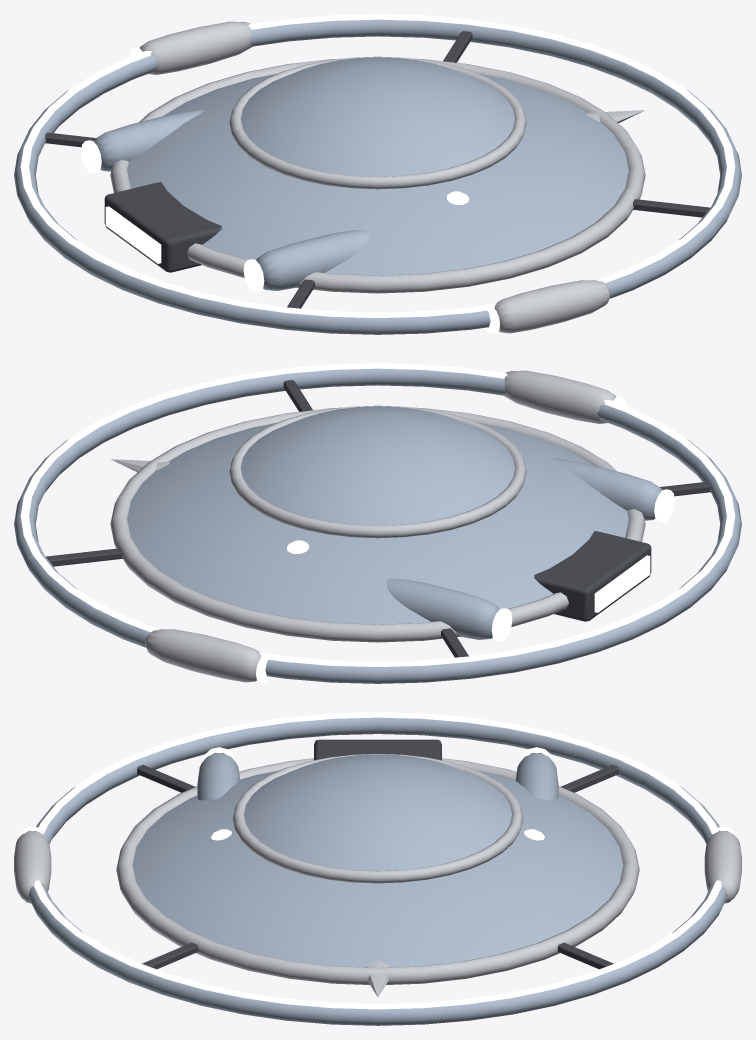
File: saucer_enormous.glb
3 views of the same model, one above another, from view 1: azimuth 30°, elevation 25°; view 2: azimuth 150°, elevation 25°; view 3: azimuth 270°, elevation 25° (orthographic). The views are drawn at different scales.
Parts seen in each view (by area): view 1: saucer_enormous; view 2: saucer_enormous; view 3: saucer_enormous.
Part boxes in pixels (x1,y1,x2,y2): saucer_enormous: [14, 14, 741, 334]; saucer_enormous: [14, 363, 741, 683]; saucer_enormous: [14, 712, 741, 1025].
Bounding box in the file's own units: 2.5 × 0.5335 × 2.56.
